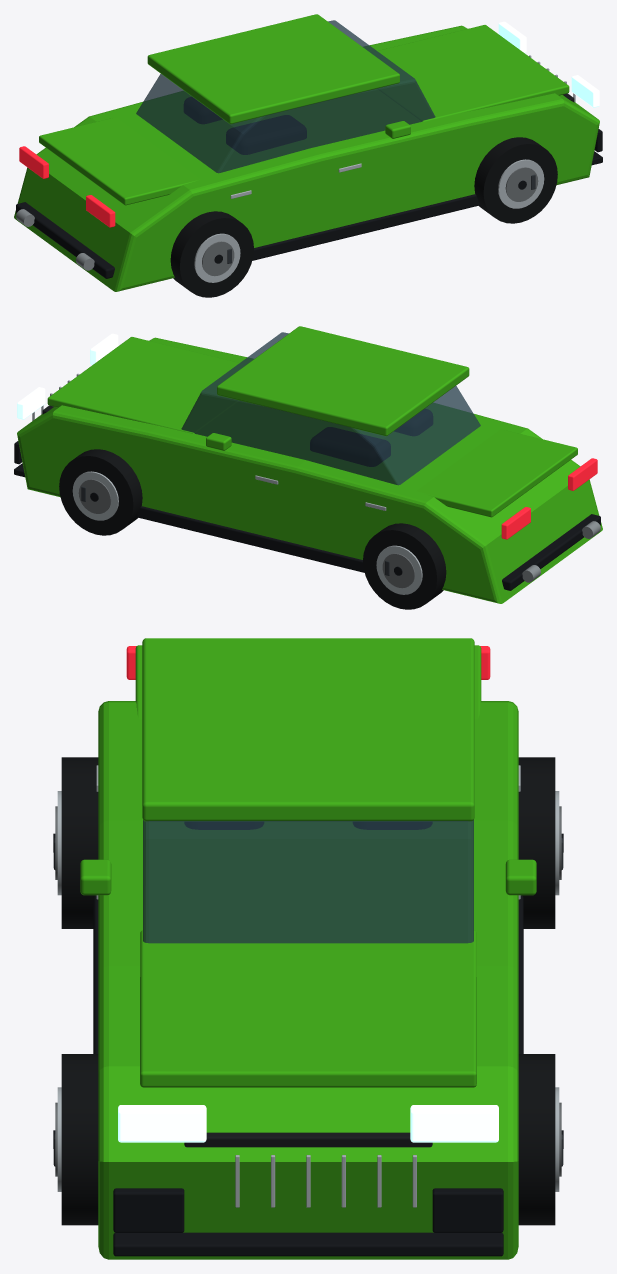
Rendered from chevy_aveo.glb.
The picture shows the model from 3 angles, top to bottom: view 1: azimuth 30°, elevation 25°; view 2: azimuth 150°, elevation 25°; view 3: azimuth 270°, elevation 25°; orthographic projection. The views are drawn at different scales.
Parts seen in each view (by area): view 1: sculpted_body, roof, glasshouse, hood_center, rear_deck, rear_right_wheel_tire, front_right_wheel_tire, side_skirt_1, seat_1, rear_diffuser, front_right_wheel_rim, rear_right_wheel_rim (+7 smaller); view 2: sculpted_body, roof, glasshouse, hood_center, rear_deck, rear_left_wheel_tire, front_left_wheel_tire, side_skirt_-1, seat_-1, rear_diffuser, front_left_wheel_rim, rear_left_wheel_rim (+7 smaller); view 3: sculpted_body, roof, hood_center, glasshouse, front_splitter, front_left_wheel_tire, front_right_wheel_tire, rear_left_wheel_tire, rear_right_wheel_tire, front_grille, headlight_left, headlight_right (+7 smaller).
Boxes of the visible parts, bbox=[...] form: sculpted_body: bbox=[14, 25, 599, 291]; roof: bbox=[147, 14, 399, 124]; glasshouse: bbox=[136, 20, 435, 173]; hood_center: bbox=[372, 25, 569, 121]; rear_deck: bbox=[39, 117, 200, 205]; rear_right_wheel_tire: bbox=[170, 211, 253, 297]; front_right_wheel_tire: bbox=[474, 137, 557, 223]; side_skirt_1: bbox=[252, 194, 480, 260]; seat_1: bbox=[226, 115, 306, 154]; rear_diffuser: bbox=[16, 202, 114, 278]; front_right_wheel_rim: bbox=[498, 159, 544, 208]; rear_right_wheel_rim: bbox=[194, 233, 240, 282]; sculpted_body: bbox=[17, 337, 602, 603]; roof: bbox=[217, 326, 469, 436]; glasshouse: bbox=[181, 332, 480, 485]; hood_center: bbox=[47, 337, 244, 433]; rear_deck: bbox=[416, 429, 577, 517]; rear_left_wheel_tire: bbox=[363, 523, 446, 609]; front_left_wheel_tire: bbox=[59, 449, 142, 535]; side_skirt_-1: bbox=[136, 506, 364, 572]; seat_-1: bbox=[310, 427, 390, 466]; rear_diffuser: bbox=[502, 514, 600, 590]; front_left_wheel_rim: bbox=[72, 471, 118, 520]; rear_left_wheel_rim: bbox=[376, 545, 422, 594]; sculpted_body: bbox=[98, 701, 518, 1259]; roof: bbox=[142, 638, 474, 821]; hood_center: bbox=[140, 930, 476, 1087]; glasshouse: bbox=[143, 820, 473, 943]; front_splitter: bbox=[113, 1232, 503, 1256]; front_left_wheel_tire: bbox=[518, 1054, 555, 1225]; front_right_wheel_tire: bbox=[61, 1054, 98, 1225]; rear_left_wheel_tire: bbox=[518, 757, 555, 928]; rear_right_wheel_tire: bbox=[61, 757, 98, 928]; front_grille: bbox=[184, 1132, 432, 1147]; headlight_left: bbox=[410, 1105, 498, 1142]; headlight_right: bbox=[118, 1105, 206, 1142].
Bounding box in the file's own units: 4.92 × 1.47 × 2.14.
